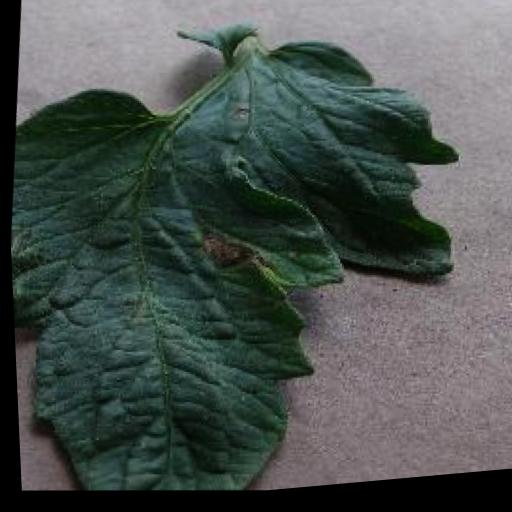Early Blight: (1, 0, 480, 512)
